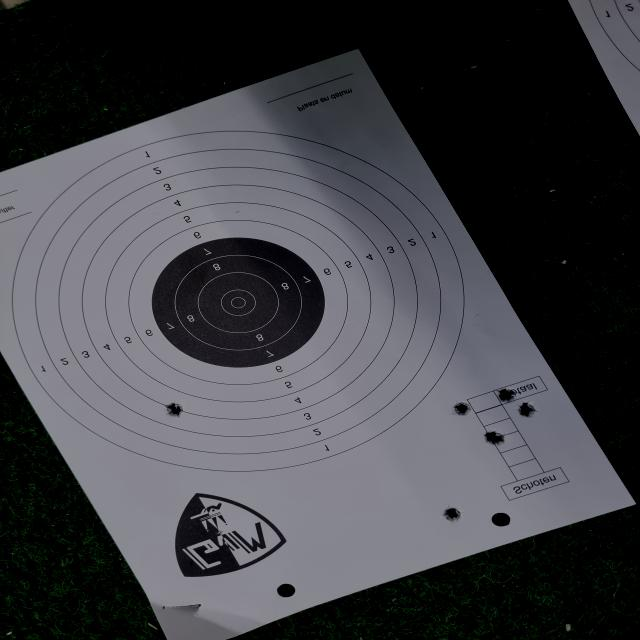0: (518, 402, 538, 418), (498, 388, 517, 402), (483, 432, 505, 444), (444, 508, 461, 522), (454, 402, 470, 415)
4: (165, 403, 183, 416)
Target: (12, 131, 465, 473)
black_contour: (151, 238, 326, 368)
